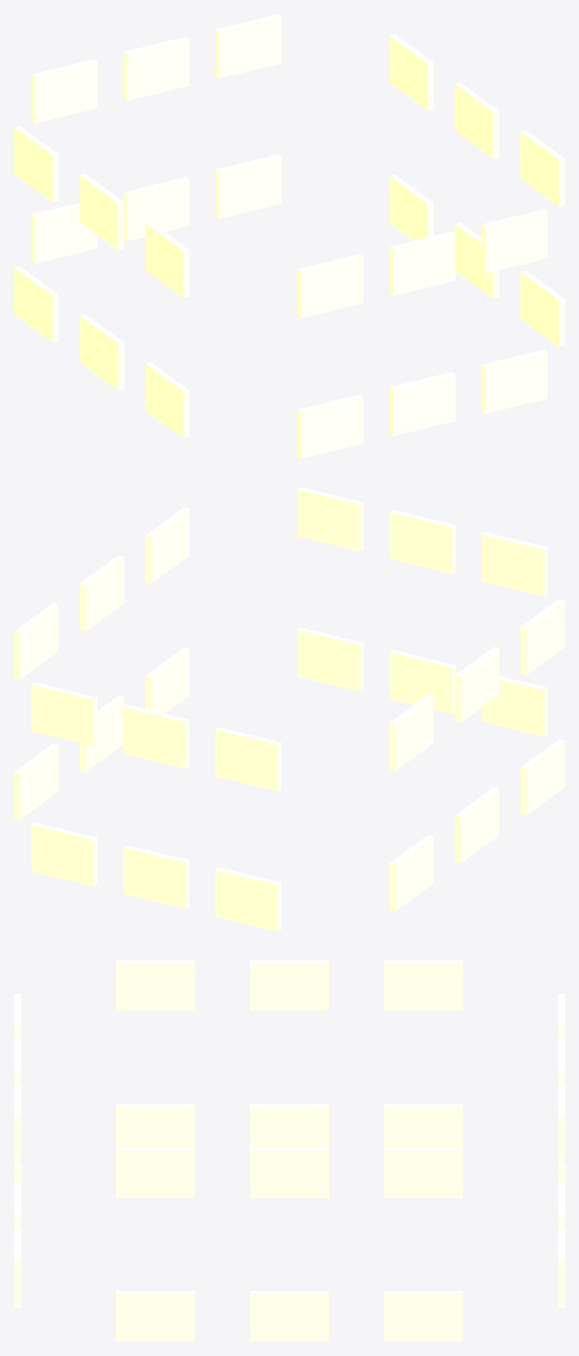
File: building-c.glb
3 views of the same model, one above another, from view 1: azimuth 30°, elevation 25°; view 2: azimuth 150°, elevation 25°; view 3: azimuth 270°, elevation 25° (orthographic). The views are drawn at different scales.
Parts seen in each view (by area): view 1: WindowLight_back_0_2, WindowLight_front_1_0, WindowLight_back_1_1, WindowLight_back_1_2, WindowLight_front_0_0, WindowLight_front_0_1, WindowLight_front_1_1, WindowLight_front_1_2, WindowLight_back_1_0, WindowLight_front_0_2, WindowLight_back_0_1, WindowLight_back_0_0 (+12 smaller); view 2: WindowLight_back_1_0, WindowLight_front_0_2, WindowLight_back_0_0, WindowLight_back_0_1, WindowLight_back_1_1, WindowLight_back_1_2, WindowLight_front_1_1, WindowLight_front_1_2, WindowLight_back_0_2, WindowLight_front_1_0, WindowLight_front_0_1, WindowLight_front_0_0 (+12 smaller); view 3: WindowLight_right_1_0, WindowLight_right_1_1, WindowLight_right_1_2, WindowLight_left_1_0, WindowLight_left_1_1, WindowLight_left_1_2, WindowLight_right_0_0, WindowLight_right_0_1, WindowLight_right_0_2, WindowLight_left_0_0, WindowLight_left_0_1, WindowLight_left_0_2 (+4 smaller).
Part boxes in pixels (box(x1,y1,x2,y2)): WindowLight_back_0_2: box(215, 154, 281, 218); WindowLight_front_1_0: box(297, 254, 363, 318); WindowLight_back_1_1: box(123, 36, 189, 100); WindowLight_back_1_2: box(215, 14, 281, 78); WindowLight_front_0_0: box(297, 394, 363, 458); WindowLight_front_0_1: box(389, 372, 455, 436); WindowLight_front_1_1: box(389, 231, 455, 295); WindowLight_front_1_2: box(481, 209, 547, 273); WindowLight_back_1_0: box(31, 59, 97, 123); WindowLight_front_0_2: box(481, 349, 547, 413); WindowLight_back_0_1: box(123, 177, 189, 241); WindowLight_back_0_0: box(31, 203, 97, 263); WindowLight_back_1_0: box(215, 727, 281, 791); WindowLight_front_0_2: box(297, 627, 363, 691); WindowLight_back_0_0: box(215, 867, 281, 931); WindowLight_back_0_1: box(123, 845, 189, 909); WindowLight_back_1_1: box(123, 704, 189, 768); WindowLight_back_1_2: box(31, 682, 97, 746); WindowLight_front_1_1: box(389, 509, 455, 573); WindowLight_front_1_2: box(297, 487, 363, 551); WindowLight_back_0_2: box(31, 822, 97, 886); WindowLight_front_1_0: box(481, 532, 547, 596); WindowLight_front_0_1: box(389, 650, 455, 714); WindowLight_front_0_0: box(481, 676, 547, 736); WindowLight_right_1_0: box(116, 1147, 194, 1198); WindowLight_right_1_1: box(250, 1147, 328, 1198); WindowLight_right_1_2: box(384, 1147, 462, 1198); WindowLight_left_1_0: box(116, 960, 194, 1010); WindowLight_left_1_1: box(250, 960, 328, 1010); WindowLight_left_1_2: box(384, 960, 462, 1010); WindowLight_right_0_0: box(116, 1291, 194, 1341); WindowLight_right_0_1: box(250, 1291, 328, 1341); WindowLight_right_0_2: box(384, 1291, 462, 1341); WindowLight_left_0_0: box(116, 1103, 194, 1147); WindowLight_left_0_1: box(250, 1103, 328, 1147); WindowLight_left_0_2: box(384, 1103, 462, 1147).
Bounding box in the file's own units: 0.9136 × 0.4286 × 1.12.
